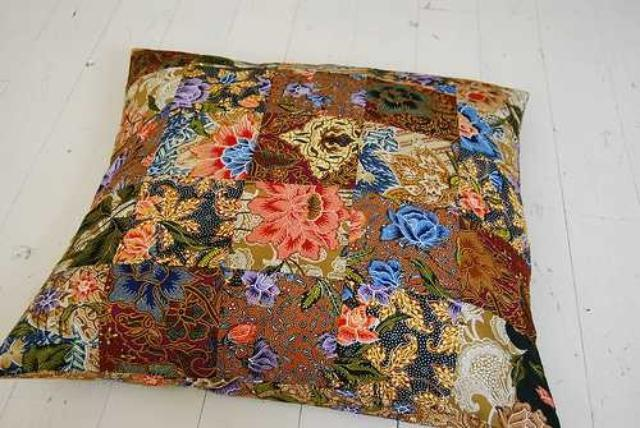pillow: (1, 46, 560, 428)
